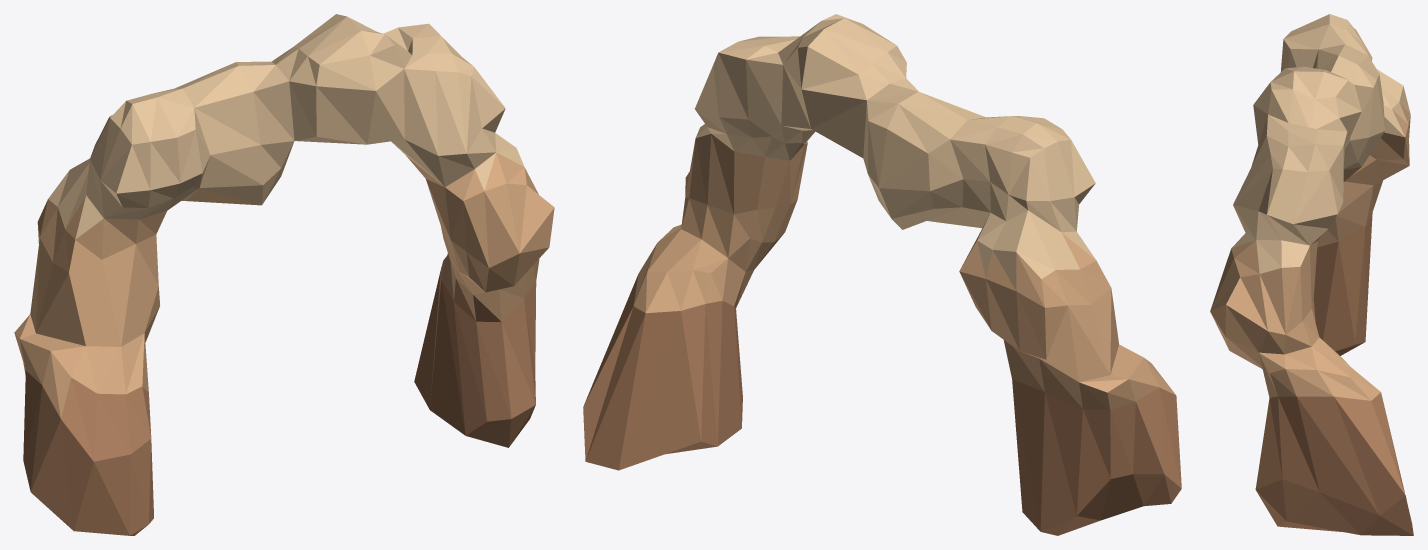
Rendered from canyon-0-3.glb.
The picture shows the model from 3 angles, left to right: view 1: azimuth 30°, elevation 25°; view 2: azimuth 150°, elevation 25°; view 3: azimuth 270°, elevation 25°; orthographic projection. The views are drawn at different scales.
Visible parts, largest first — view 1: canyon-0-3; view 2: canyon-0-3; view 3: canyon-0-3.
Part boxes in pixels (bbox=[...]): canyon-0-3: bbox=[14, 14, 554, 535]; canyon-0-3: bbox=[583, 14, 1181, 535]; canyon-0-3: bbox=[1210, 14, 1413, 535].
Size of the model in its own units: 36.95 by 30 by 14.
